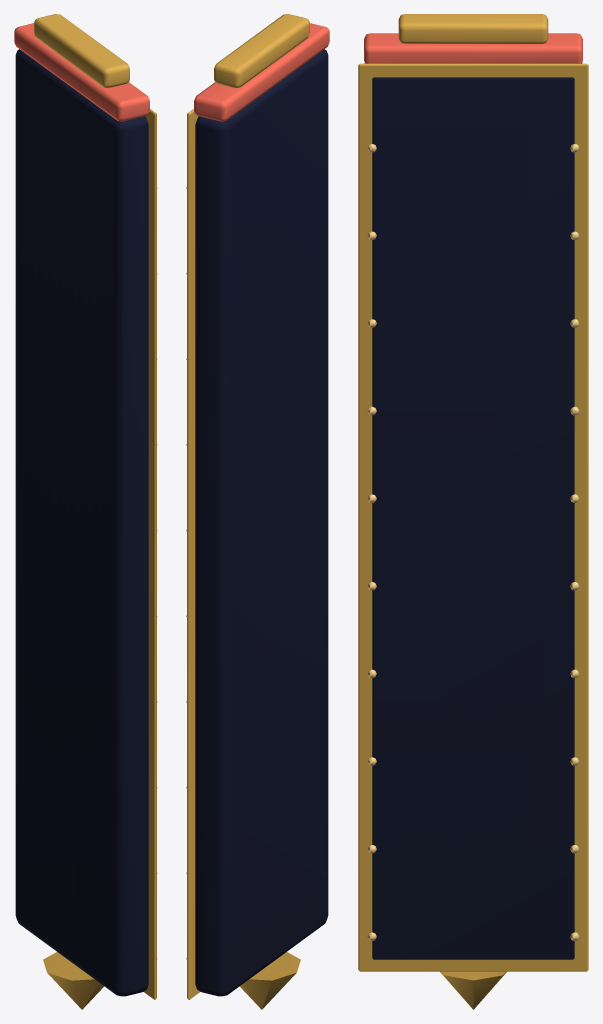
The model's file is SM_Cinema_BladeSign.fbx.
The picture shows the model from 3 angles, left to right: view 1: azimuth 30°, elevation 25°; view 2: azimuth 150°, elevation 25°; view 3: azimuth 270°, elevation 25°; orthographic projection. The views are drawn at different scales.
Visible parts, largest first — view 1: SM_Cinema_BladeSign; view 2: SM_Cinema_BladeSign; view 3: SM_Cinema_BladeSign.
Part boxes in pixels (left/top/right/bottom): SM_Cinema_BladeSign: left=14, top=14, right=157, bottom=1009; SM_Cinema_BladeSign: left=186, top=14, right=329, bottom=1009; SM_Cinema_BladeSign: left=358, top=14, right=588, bottom=1009.
Bounding box in the file's own units: 72.07 × 951 × 200.
